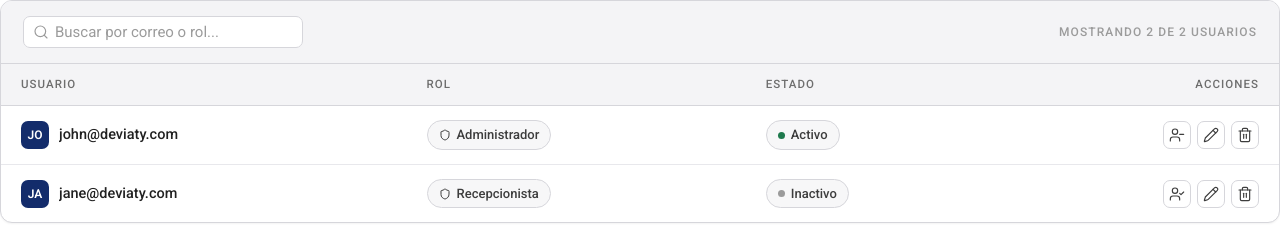
Test case: UsersTable Component Molecule — List view & control panels › filters rows based on the search query input
// Search email
Type "john" into the field with placeholder "Buscar por correo o rol..." at (163, 32), box [23,16,303,48]
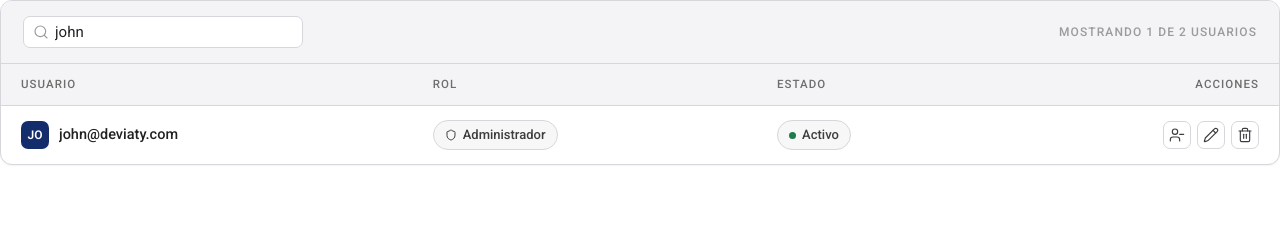
Check: the text "john@deviaty.com" is shown, box [59,124,178,146]
Check: the text "jane@deviaty.com" is gone
// Clear and search role name
Replace the text in the field with placeholder "Buscar por correo o rol..." with "Recepcionista" at (163, 32), box [23,16,303,48]
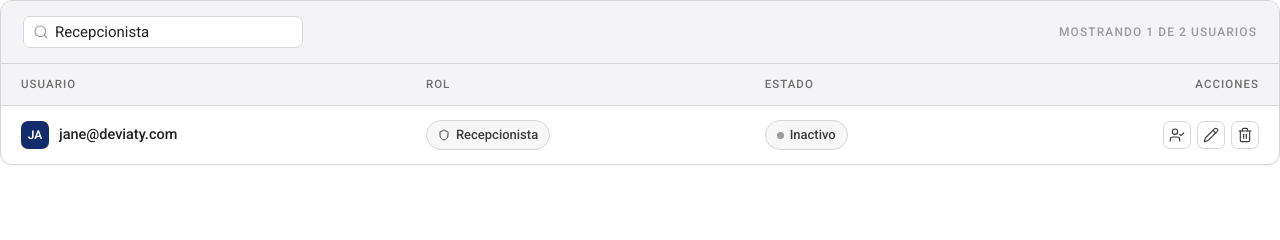
Check: the text "jane@deviaty.com" is shown, box [59,124,177,146]
Check: the text "john@deviaty.com" is gone
